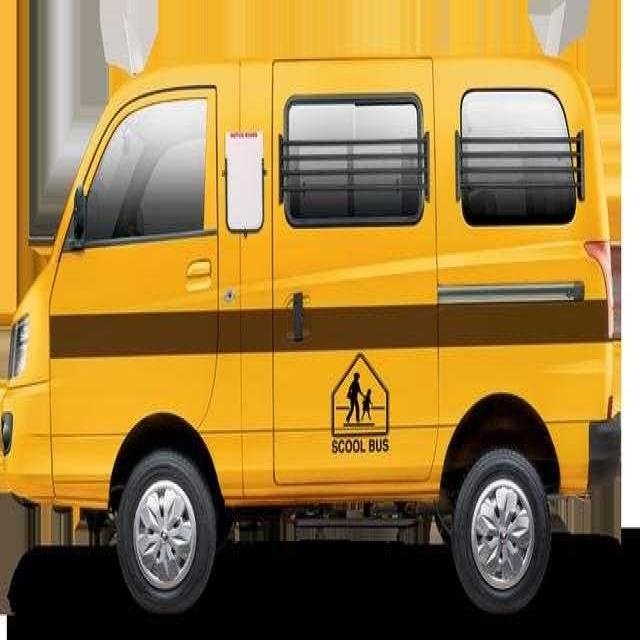Van: (2, 51, 614, 620)
